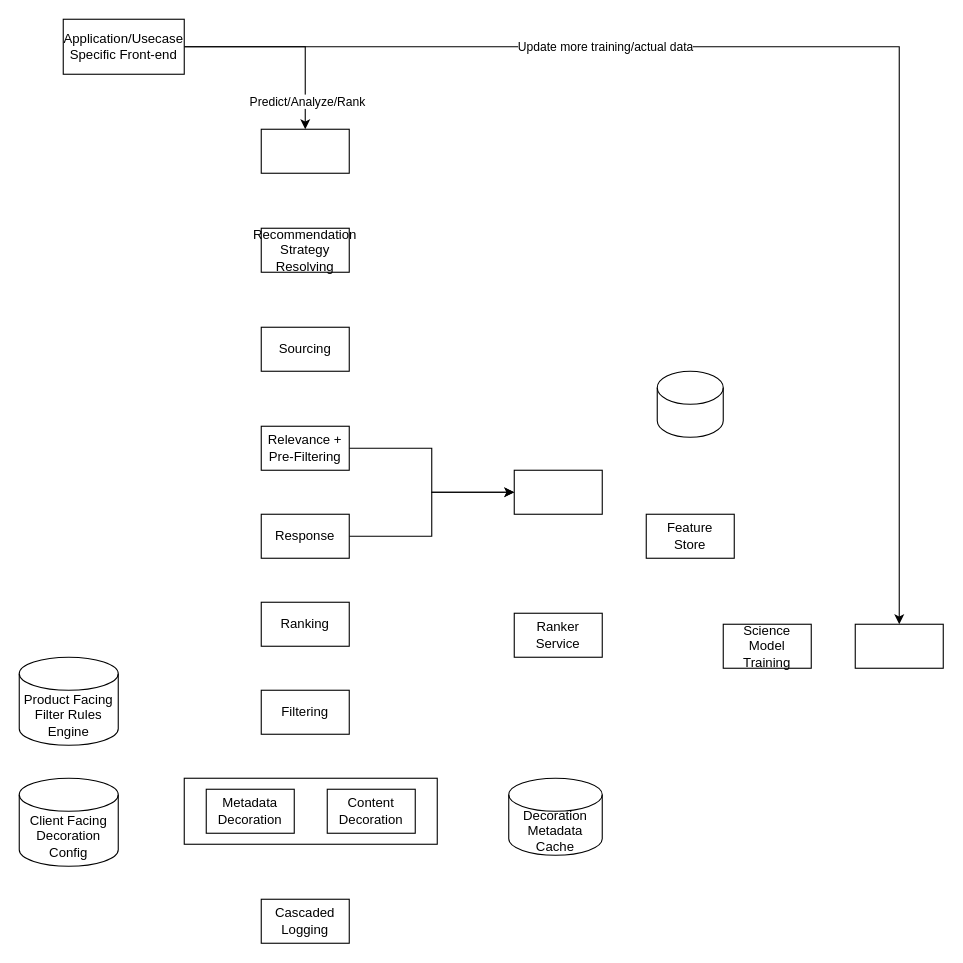
The diagram is 963 pixels wide and 963 high, and some of its shapes have lost their labels. The centre of each missing label's shape, as x and y in pixels:
"Engagement Logging Repo" goes at point 898,645.
"Inferencer Service" goes at point 557,491.
"Model Repo" goes at point 689,403.
"Request Validation" goes at point 304,150.
